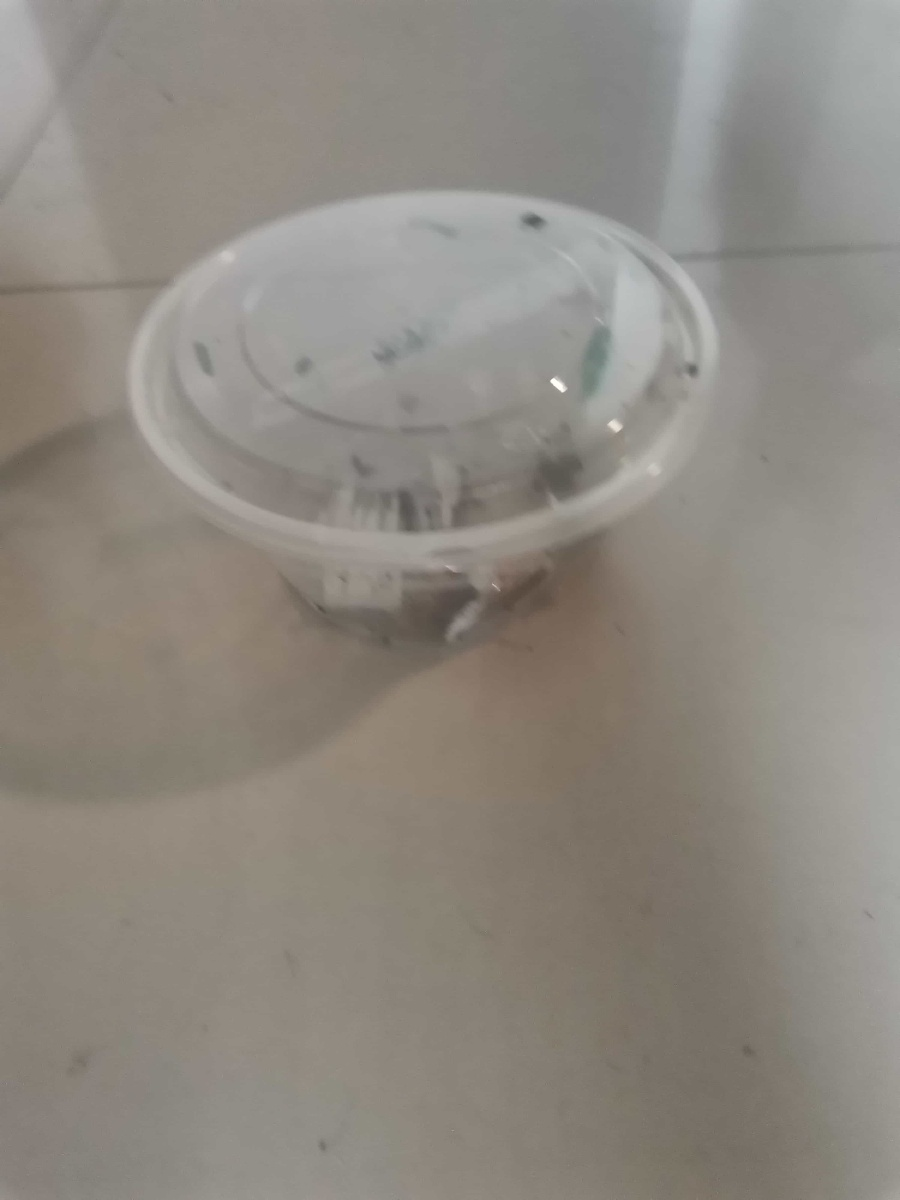fastfood box: (115, 178, 732, 658)
